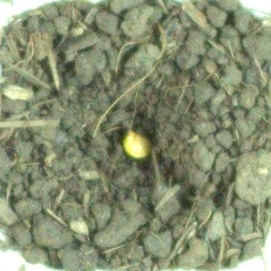pepper seed: (43, 45, 199, 207)
